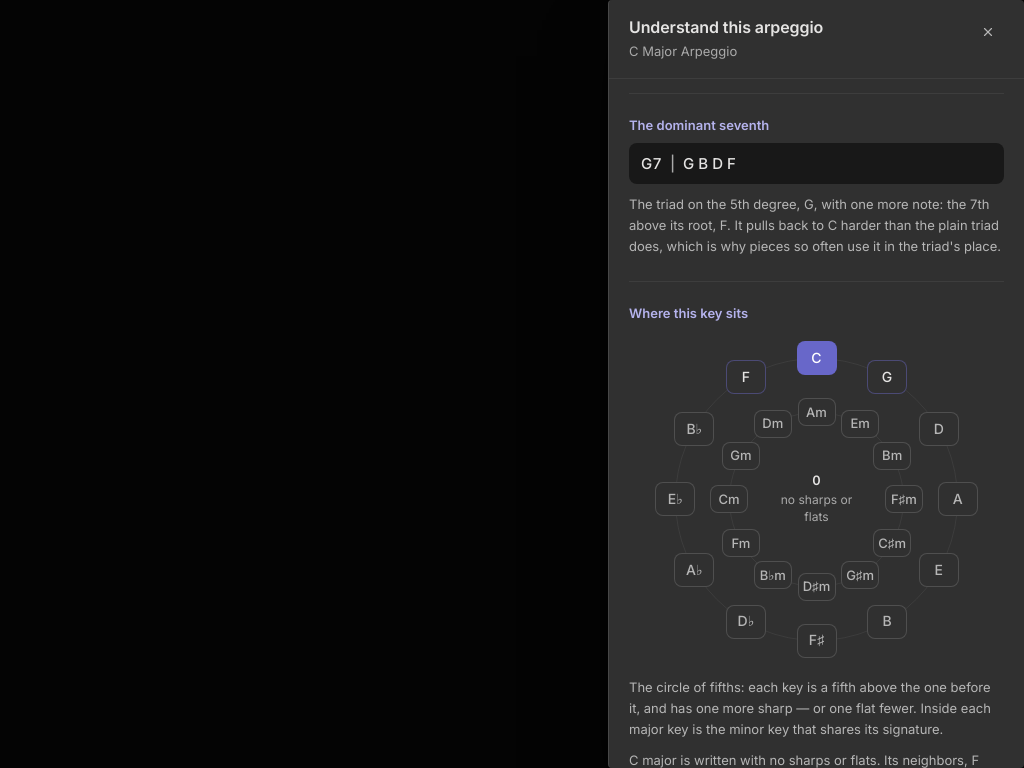
Test: the circle of fifths in a theory panel › changes the key when one is pressed
(page scrolled)
Click the button with aria-label "E minor" at x=860, y=424, box [841,410,879,438]
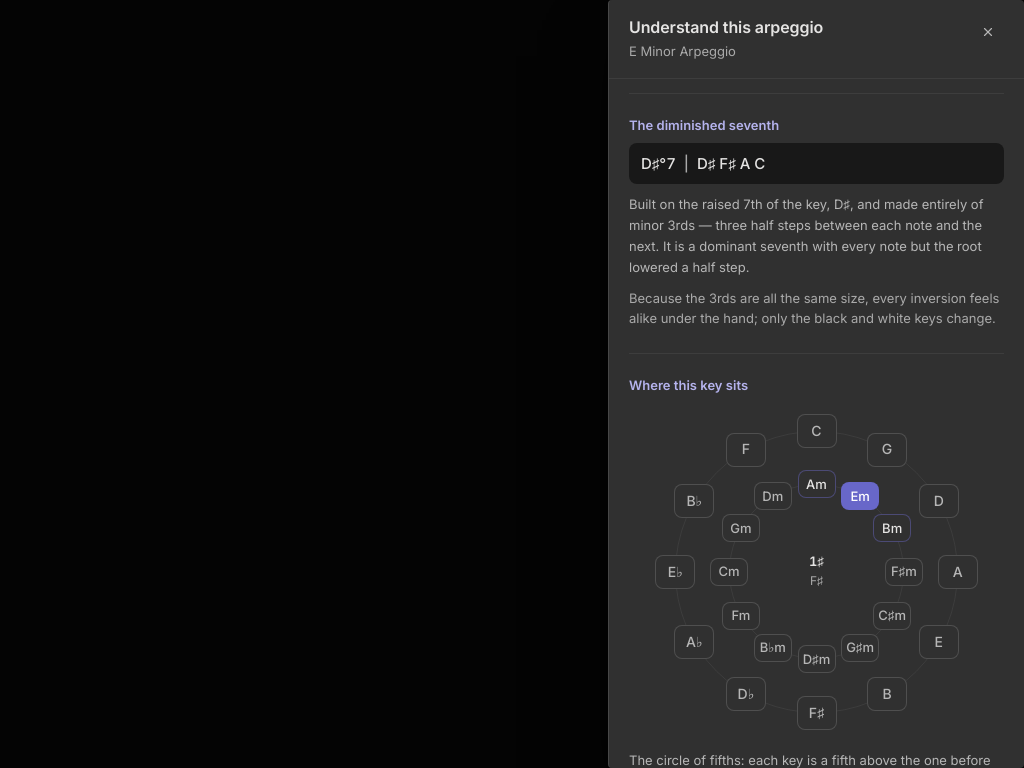
Now the text "E Minor Arpeggio" is shown, box [629,43,736,59]
